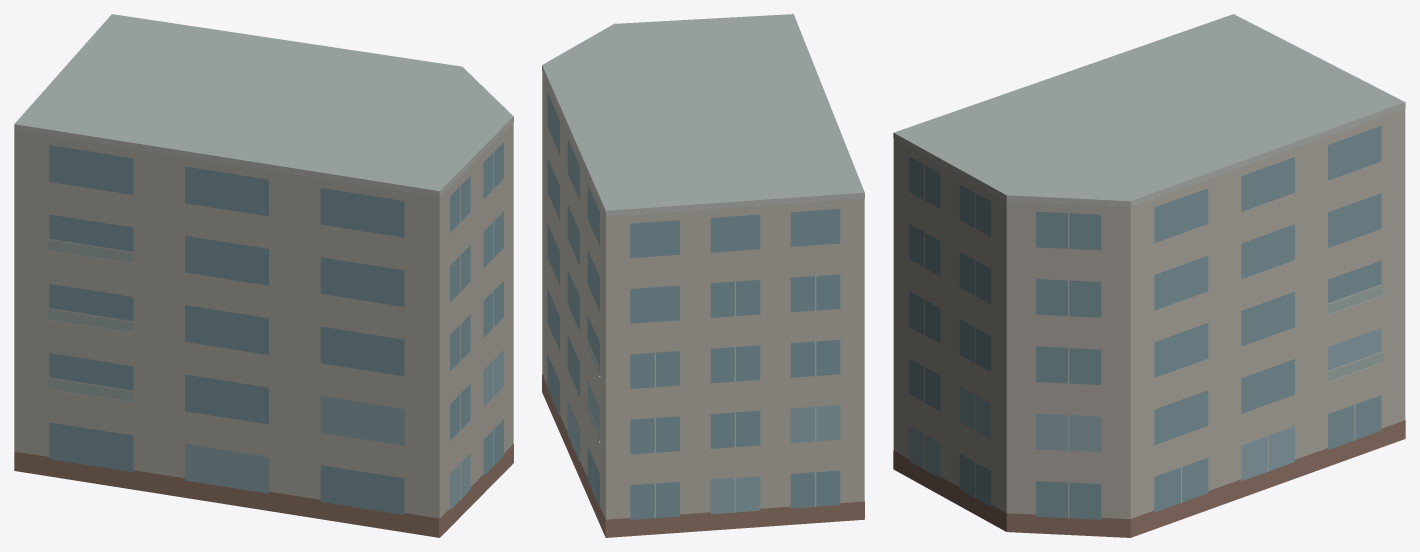
File: survey-upis-32890256.glb
3 renders of one model, left to right at view 1: azimuth 30°, elevation 25°; view 2: azimuth 150°, elevation 25°; view 3: azimuth 270°, elevation 25°, orthographic. The views are drawn at different scales.
Parts seen in each view (by area): view 1: survey-upis-32890256.tmp; view 2: survey-upis-32890256.tmp; view 3: survey-upis-32890256.tmp.
Boxes of the visible parts, x1=… form: survey-upis-32890256.tmp: x1=14, y1=14, x2=513, y2=537; survey-upis-32890256.tmp: x1=542, y1=14, x2=864, y2=537; survey-upis-32890256.tmp: x1=893, y1=14, x2=1405, y2=537.
Bounding box in the file's own units: 16.23 × 13.6 × 18.75.
